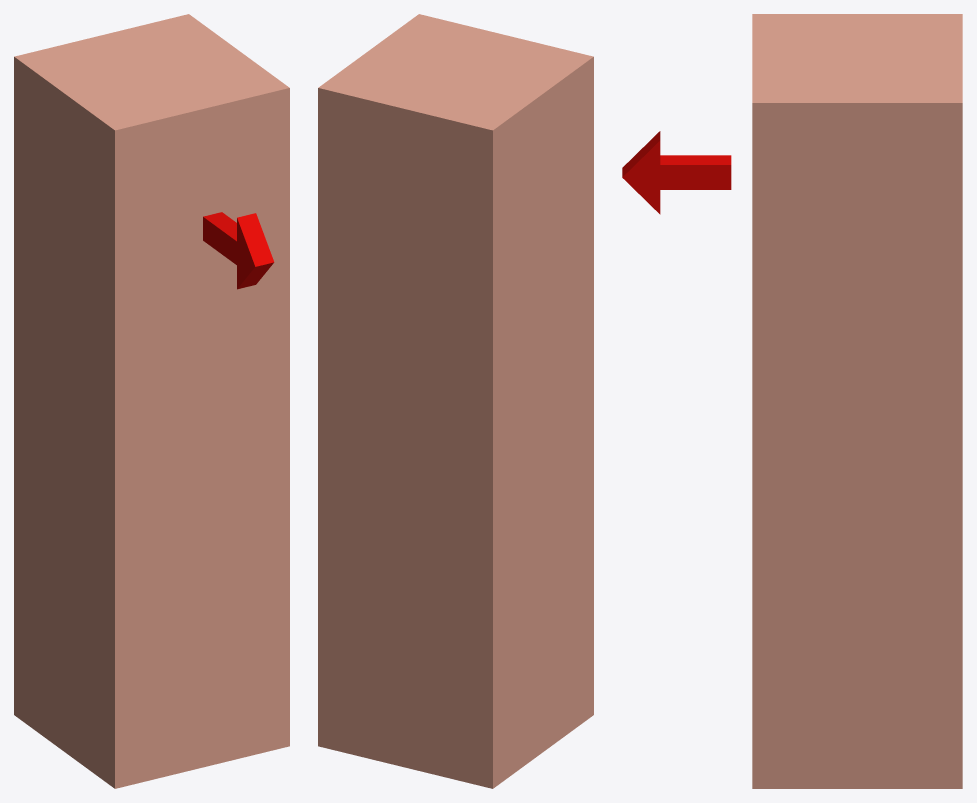
File: player.fbx
The picture shows the model from 3 angles, left to right: view 1: azimuth 30°, elevation 25°; view 2: azimuth 150°, elevation 25°; view 3: azimuth 270°, elevation 25°; orthographic projection. The views are drawn at different scales.
Parts seen in each view (by area): view 1: Playaer, Arrow; view 2: Playaer; view 3: Playaer, Arrow.
Boxes of the visible parts, x1,y1,x2,y2 form: Playaer: (14, 14, 289, 788); Arrow: (203, 212, 274, 289); Playaer: (318, 14, 593, 788); Playaer: (752, 14, 962, 788); Arrow: (622, 131, 731, 214).
Bounding box in the file's own units: 50 × 180 × 80.95.
